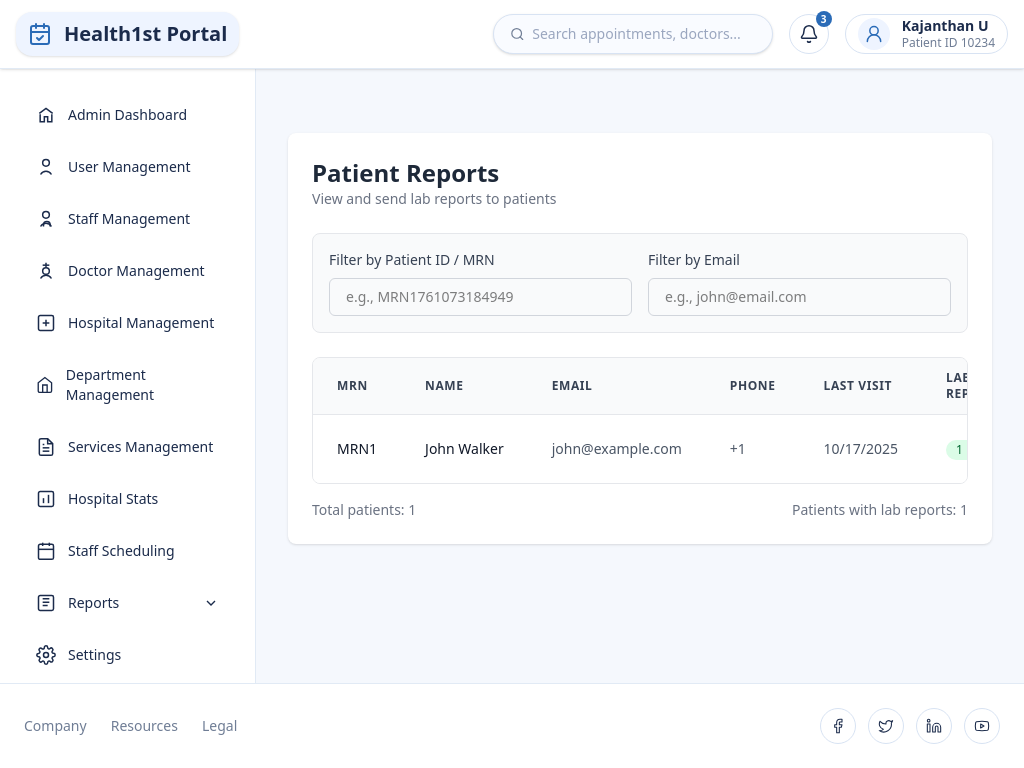
Scenario: PatientReports › clear filters restores results after filtering to no-match
The width and height of the screenshot is (1024, 768).
Type "no-match@example.com" into the field with placeholder "e.g., john@email.com" at coordinates (800, 297), box [648, 278, 951, 316]
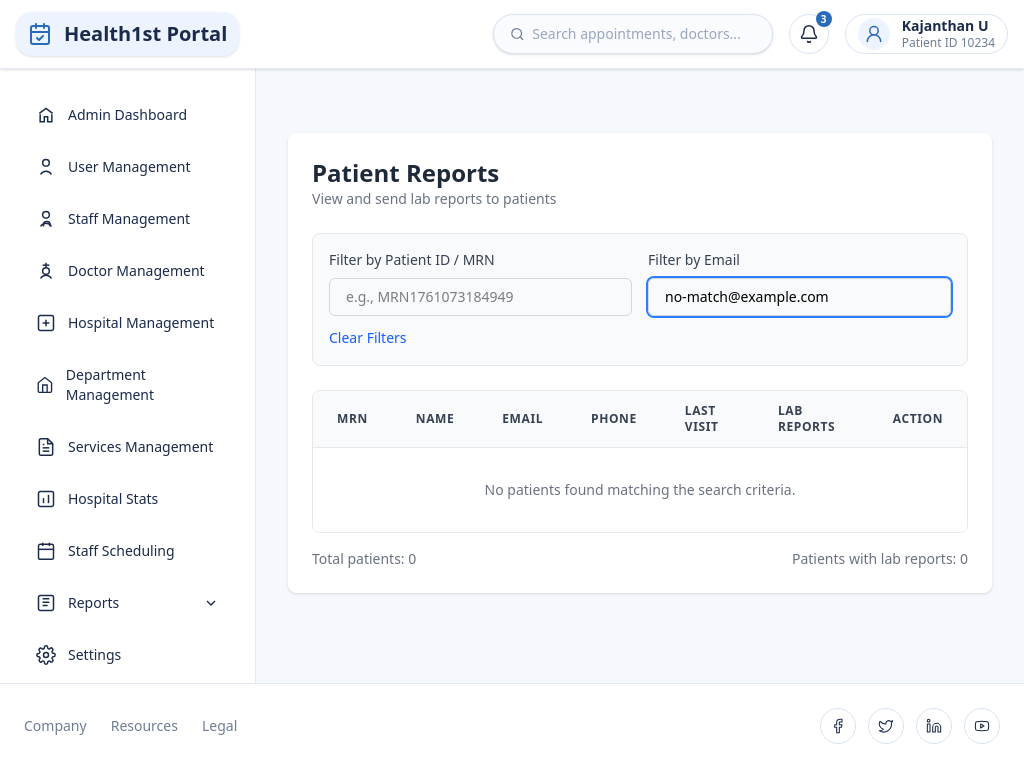
Now the text "No patients found matching the search criteria." is shown, box [313, 448, 967, 532]
Click the button "Clear Filters" at coordinates (368, 338), box [329, 328, 407, 348]
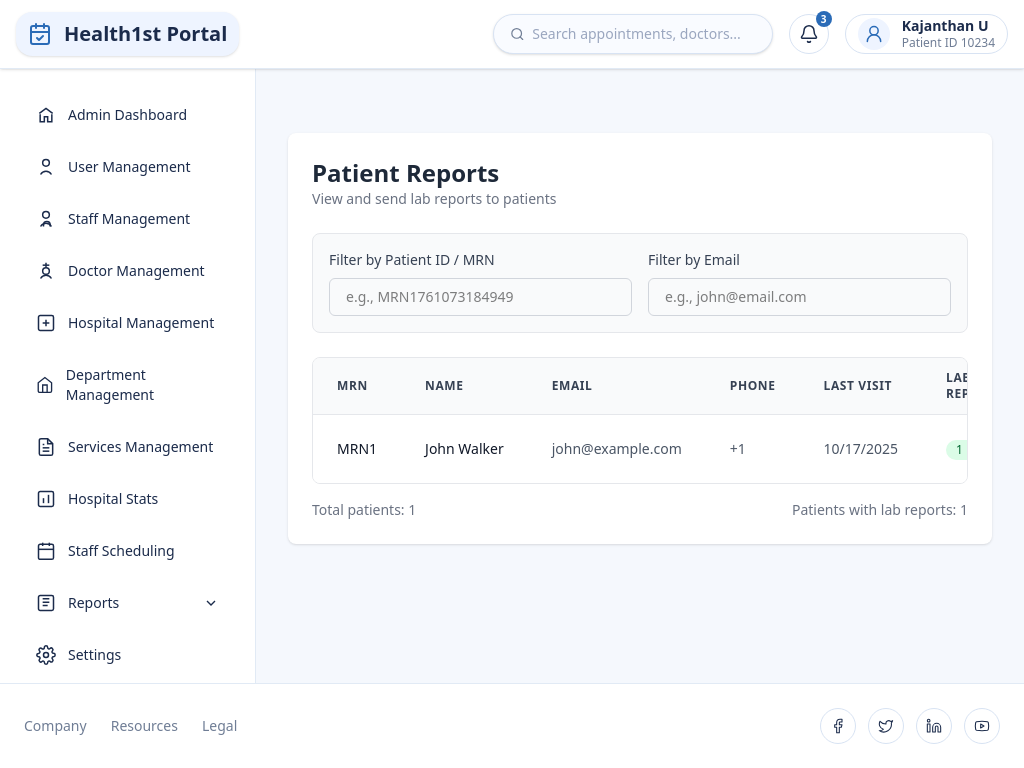
Now the text "John Walker" is shown, box [401, 414, 528, 483]
